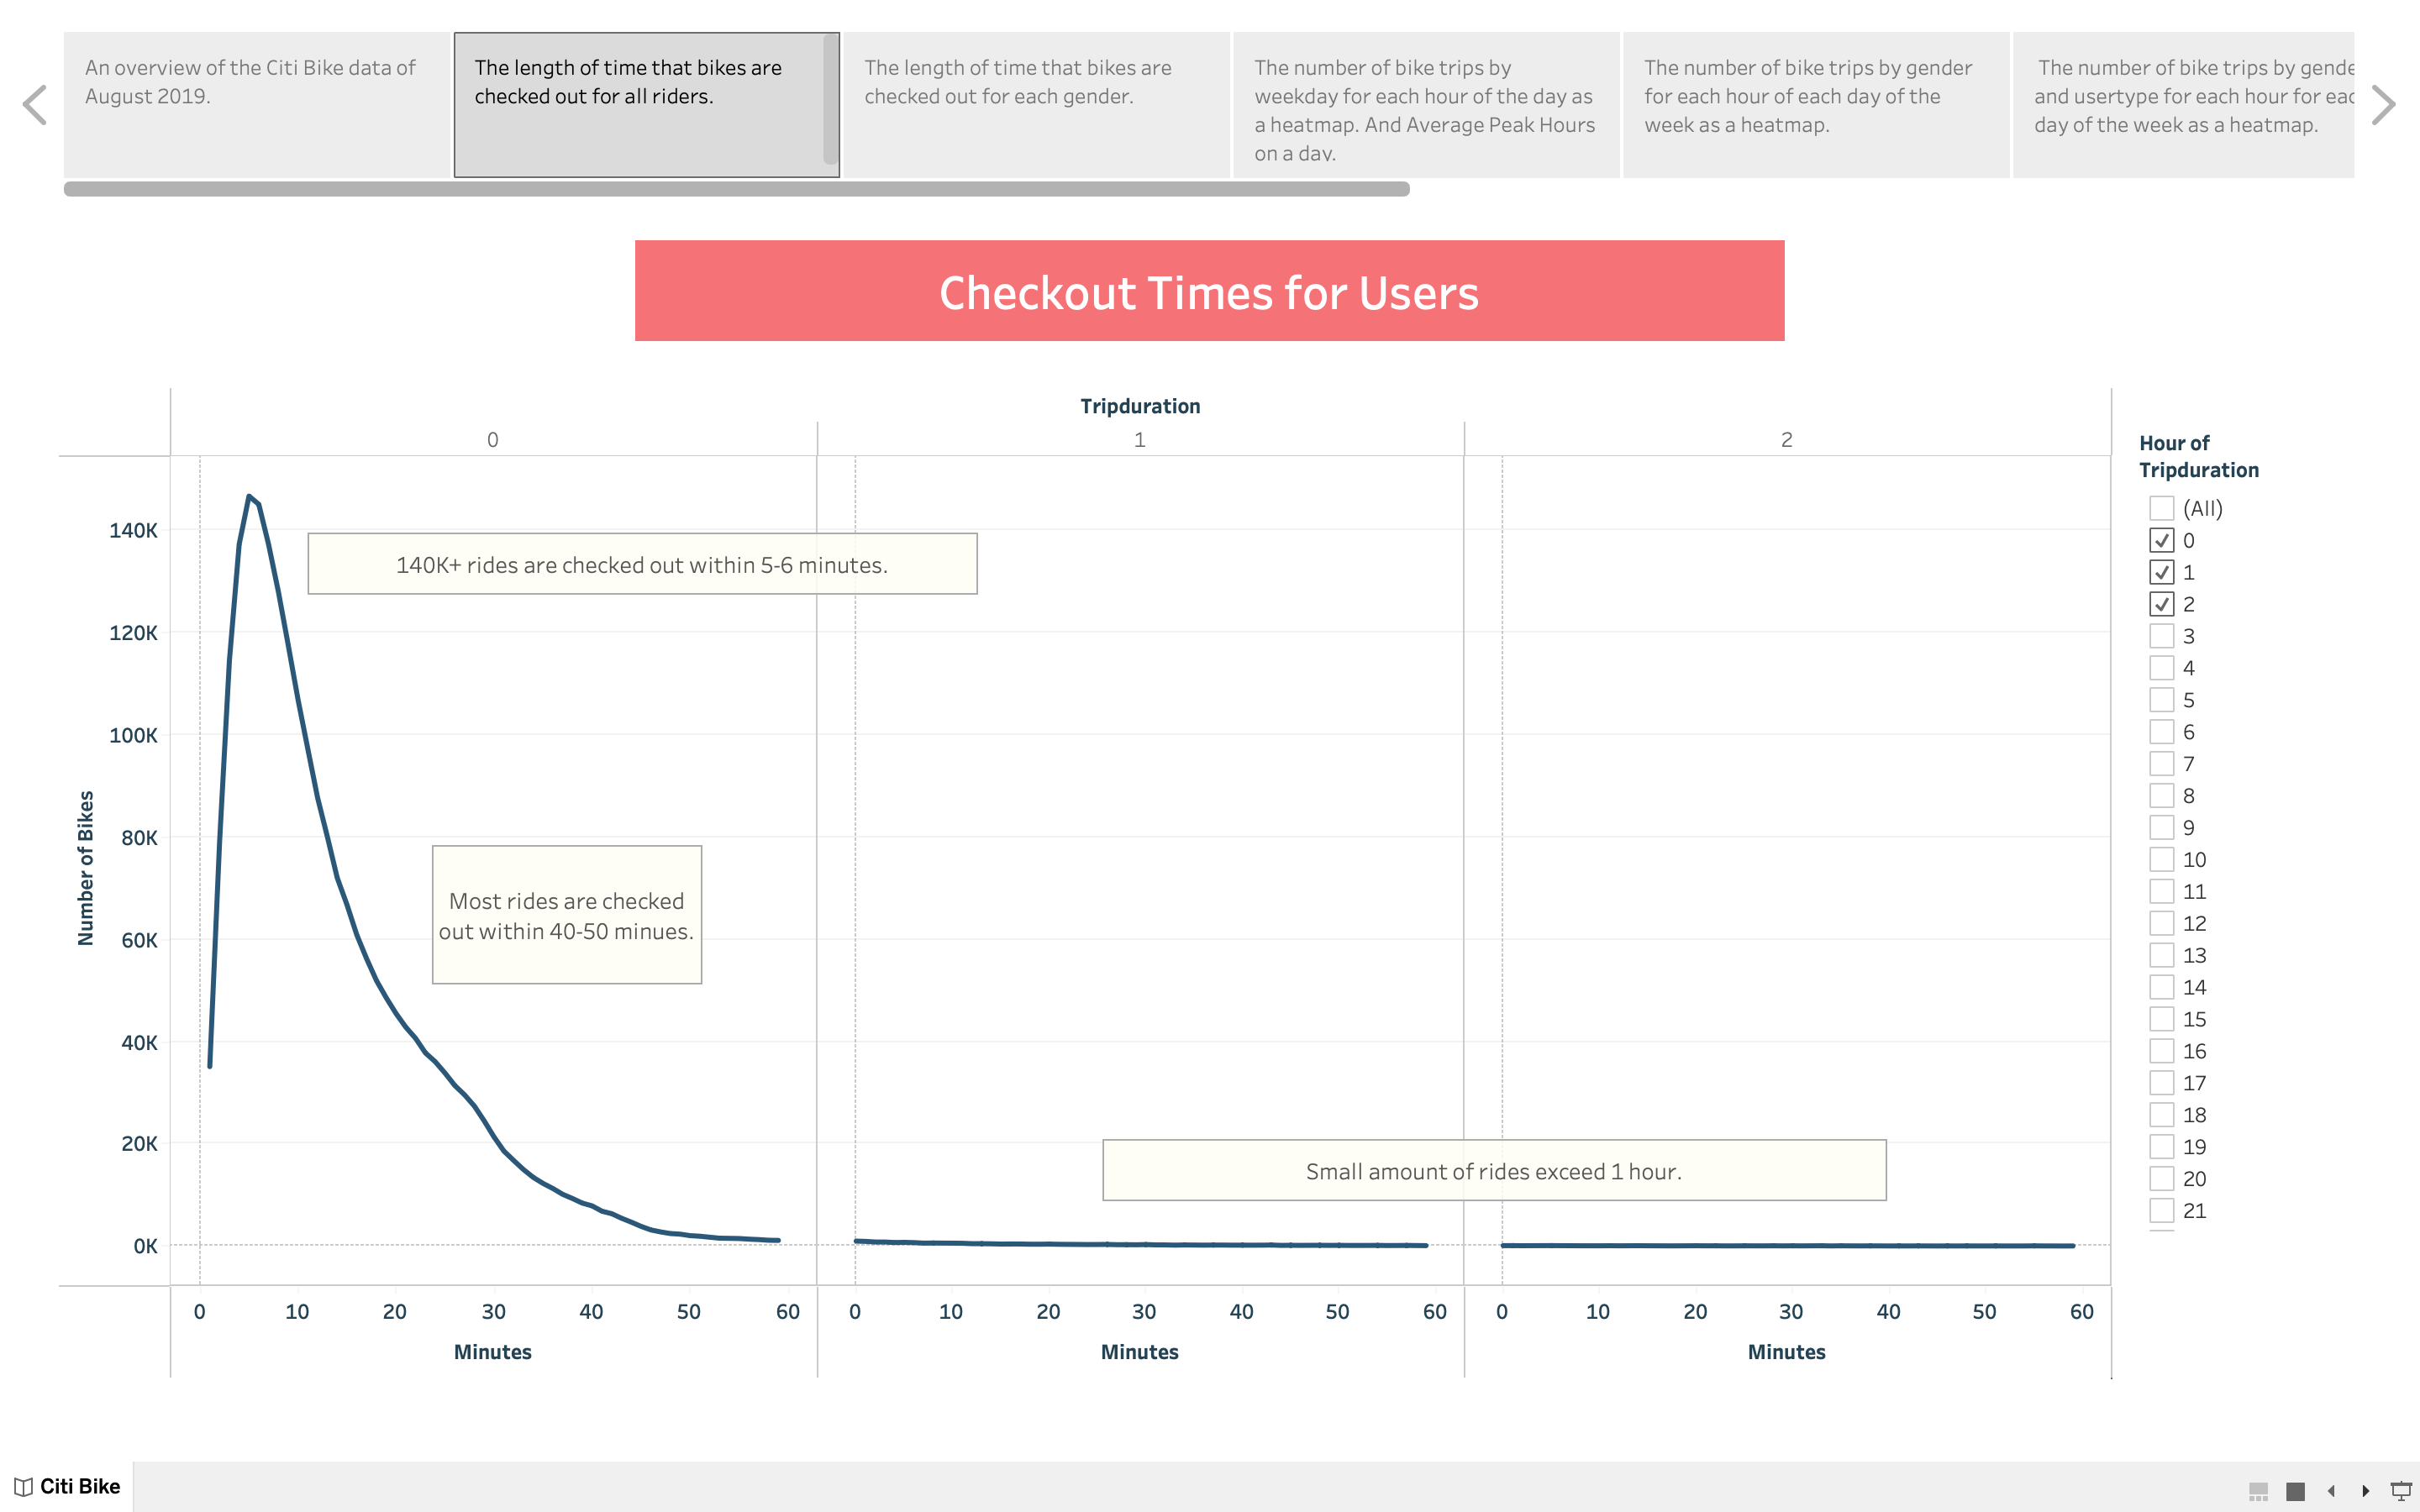

This screenshot's page, from the dashboard's own definition file:
{"tool":"tableau","page":{"name":"2. Checkou Times for Users","canvas":[1000,1000],"units":"permille","ordinal":2},"visuals":[{"type":"text","box":[260,22.9,480,81.7]},{"type":"worksheet","title":"Checkout Times for Users","mark":"Automatic","rows":["201908-citibike-updated.csv_693F743F2A5C44828BA9841992CA698F"],"cols":["tripduration","tripduration"],"box":[18.7,143.3,858.2,802.3]},{"type":"filter","title":"Checkout Times for Users","param":"[federated.0nasni4076z4p817vrrgc1y5v76k].[hr:tripduration:ok]","box":[888,175,96,650]}]}

Visuals, with their boxes on the dashboard's canvas, which has no fixed pixel size, in thousandths of its width and height (x1, y1, x2, y2). These are canvas units, not pixel positions in the 2420x1512 screenshot, which may show the page scaled, cropped or inside an application window:
text: <bbox>260, 23, 740, 105</bbox>
"Checkout Times for Users" worksheet: <bbox>19, 143, 877, 946</bbox>
"Checkout Times for Users" filter: <bbox>888, 175, 984, 825</bbox>
